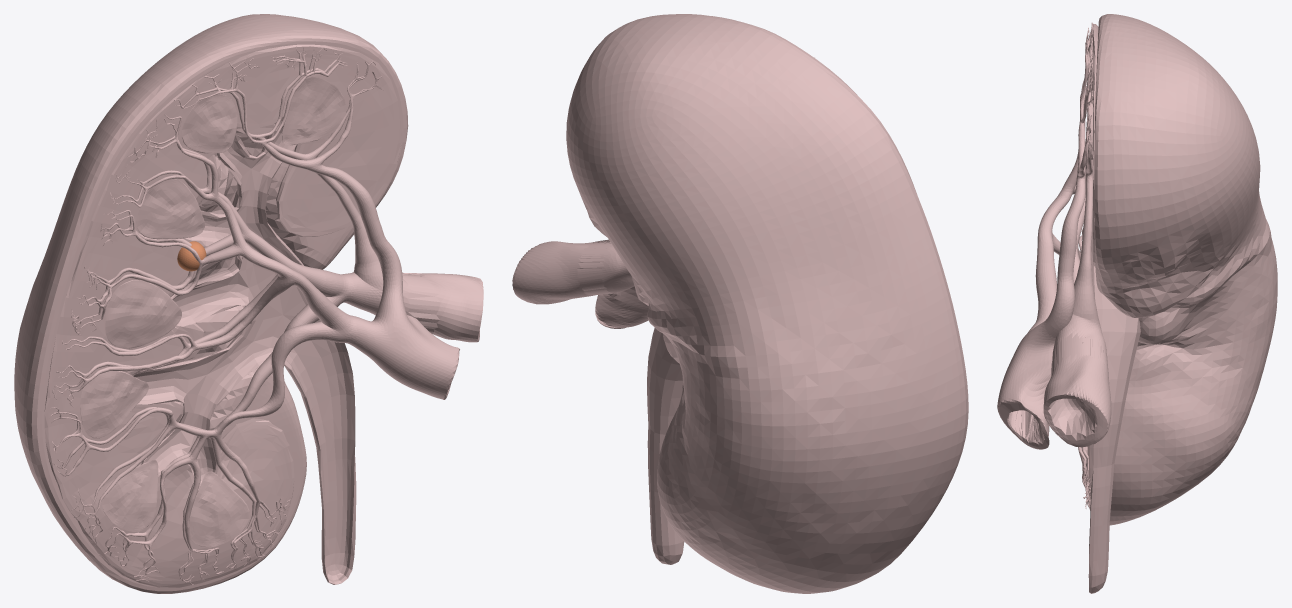
Rendered from kidney_aa237414.glb.
3 renders of one model, left to right at view 1: azimuth 30°, elevation 25°; view 2: azimuth 150°, elevation 25°; view 3: azimuth 270°, elevation 25°, orthographic. The views are drawn at different scales.
Parts seen in each view (by area): view 1: world; view 2: world; view 3: world.
Part boxes in pixels (x1,y1,x2,y2): world: (14,14,483,593); world: (512,14,968,593); world: (997,14,1277,593).
Bounding box in the file's own units: 8.47 × 10.1 × 4.88.
